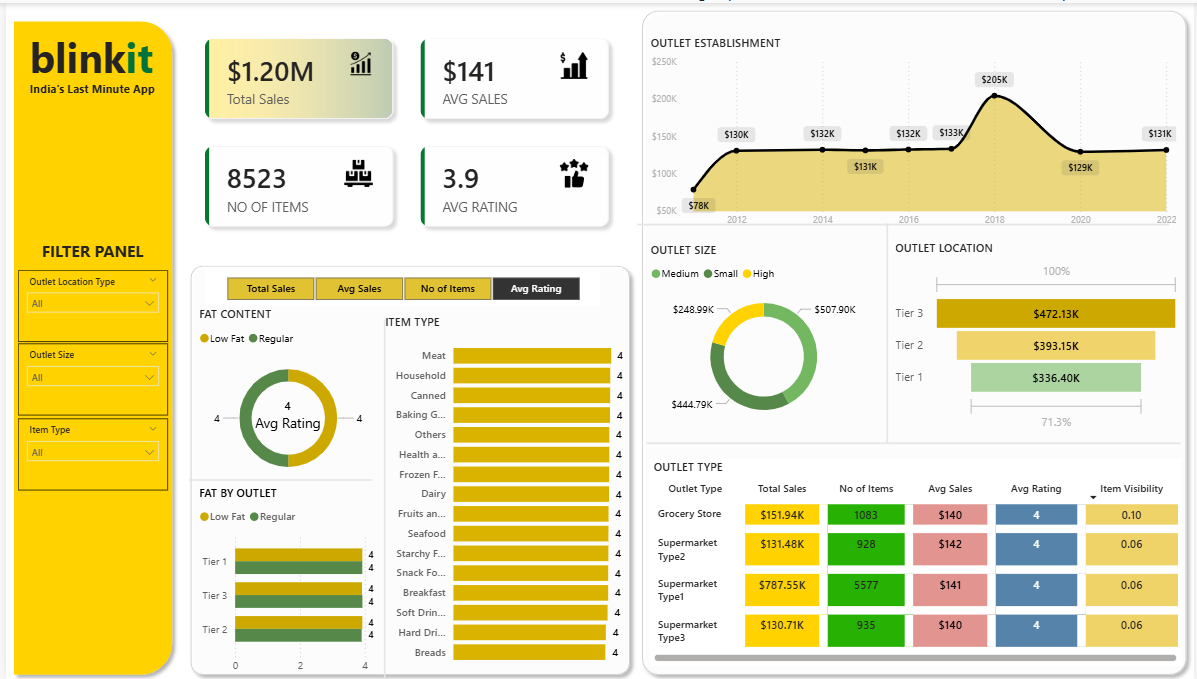

What the dashboard file says about the page in this screenshot:
{"tool":"powerbi","page":{"name":"Page 1","canvas":[1400,800],"ordinal":0},"visuals":[{"type":"shape","box":[0,12.4,205,788.2],"z":0},{"type":"textbox","box":[261.6,671.6,205,77.8],"z":1000},{"type":"textbox","box":[23,24.7,159.1,74.2],"z":2000},{"type":"textbox","box":[23,86.6,159.1,47.7],"z":3000},{"type":"cardVisual","fields":{"Data":["BlinkIT Grocery Data.Total Sales","BlinkIT Grocery Data.Avg Sales","BlinkIT Grocery Data.No of Items","BlinkIT Grocery Data.Avg Rating"]},"box":[205,12.4,535.5,281],"z":4000},{"type":"shape","box":[208.5,300.4,535.5,500.2],"z":5000},{"type":"donutChart","title":"FAT CONTENT","fields":{"Y":["BlinkIT Grocery Data.Avg Rating"],"Category":["BlinkIT Grocery Data.Item Fat Content"]},"box":[222.7,357,219.2,217.4],"z":6000},{"type":"slicer","fields":{"Values":["Metrics.Metrics"]},"box":[235.1,316.4,464.8,40.6],"z":7000},{"type":"cardVisual","fields":{"Data":["BlinkIT Grocery Data.Avg Rating"]},"box":[254.5,440.1,155.5,90.1],"z":8000},{"type":"clusteredBarChart","title":"FAT BY OUTLET ","fields":{"Y":["BlinkIT Grocery Data.Avg Rating"],"Category":["BlinkIT Grocery Data.Outlet Location Type"],"Series":["BlinkIT Grocery Data.Item Fat Content"]},"box":[222.7,567.3,219.2,231.5],"z":9000},{"type":"shape","box":[215.6,556.7,215.6,10.6],"z":10000},{"type":"shape","box":[441.8,372.9,8.8,427.7],"z":11000},{"type":"barChart","title":"ITEM TYPE","fields":{"Y":["BlinkIT Grocery Data.Avg Rating"],"Category":["BlinkIT Grocery Data.Item Type"]},"box":[441.8,365.8,289.8,422.4],"z":12000},{"type":"shape","box":[740.5,0,659.2,800.6],"z":13000},{"type":"lineChart","title":"OUTLET ESTABLISHMENT","fields":{"Y":["BlinkIT Grocery Data.Total Sales"],"Category":["BlinkIT Grocery Data.Outlet Establishment Year"]},"box":[754.7,37.1,629.2,235.1],"z":14000},{"type":"shape","box":[743.6,241,626.6,41.3],"z":15000},{"type":"shape","box":[1033.9,259.8,8.8,258],"z":17000},{"type":"funnel","title":"OUTLET LOCATION","fields":{"Category":["BlinkIT Grocery Data.Outlet Location Type"],"Y":["BlinkIT Grocery Data.Total Sales"]},"box":[1042.7,279.2,344.6,229.8],"z":18000},{"type":"shape","box":[754.7,498.4,629.2,40.6],"z":19000},{"type":"pivotTable","title":"OUTLET TYPE","fields":{"Rows":["BlinkIT Grocery Data.Outlet Type"],"Values":["BlinkIT Grocery Data.Total Sales","BlinkIT Grocery Data.No of Items","BlinkIT Grocery Data.Avg Sales","BlinkIT Grocery Data.Avg Rating","Avg(BlinkIT Grocery Data.Item Visibility)"]},"box":[758.2,537.3,627.4,243.9],"z":20000},{"type":"slicer","fields":{"Values":["BlinkIT Grocery Data.Outlet Location Type"]},"box":[14.1,314.6,176.7,84.8],"z":21000},{"type":"slicer","fields":{"Values":["BlinkIT Grocery Data.Outlet Size"]},"box":[14.1,401.2,176.7,84.8],"z":22000},{"type":"slicer","fields":{"Values":["BlinkIT Grocery Data.Item Type"]},"box":[14.1,489.6,176.7,84.8],"z":23000},{"type":"donutChart","title":"OUTLET SIZE","fields":{"Y":["BlinkIT Grocery Data.Total Sales"],"Category":["BlinkIT Grocery Data.Outlet Size"]},"box":[754.7,281,275.7,224.5],"z":24000},{"type":"textbox","box":[37.1,273.9,130.8,38.9],"z":24001}]}

Visuals, with their boxes in screenshot pixels (x1, y1, x2, y2), scaled from the page's 1400x800 canvas onto the 1197x679 screenshot:
shape: bbox=[0, 11, 175, 678]
textbox: bbox=[224, 570, 399, 636]
textbox: bbox=[20, 21, 156, 84]
textbox: bbox=[20, 74, 156, 114]
cardVisual - BlinkIT Grocery Data.Total Sales x BlinkIT Grocery Data.Avg Sales: bbox=[175, 11, 633, 249]
shape: bbox=[178, 255, 636, 678]
"FAT CONTENT" donutChart: bbox=[190, 303, 378, 488]
slicer - Metrics.Metrics: bbox=[201, 269, 598, 303]
cardVisual - BlinkIT Grocery Data.Avg Rating: bbox=[218, 374, 351, 450]
"FAT BY OUTLET " clusteredBarChart: bbox=[190, 481, 378, 678]
shape: bbox=[184, 472, 369, 481]
shape: bbox=[378, 316, 385, 678]
"ITEM TYPE" barChart: bbox=[378, 310, 626, 669]
shape: bbox=[633, 0, 1196, 678]
"OUTLET ESTABLISHMENT" lineChart: bbox=[645, 31, 1183, 231]
shape: bbox=[636, 205, 1172, 240]
shape: bbox=[884, 221, 892, 439]
"OUTLET LOCATION" funnel: bbox=[892, 237, 1186, 432]
shape: bbox=[645, 423, 1183, 457]
"OUTLET TYPE" pivotTable: bbox=[648, 456, 1185, 663]
slicer - BlinkIT Grocery Data.Outlet Location Type: bbox=[12, 267, 163, 339]
slicer - BlinkIT Grocery Data.Outlet Size: bbox=[12, 341, 163, 412]
slicer - BlinkIT Grocery Data.Item Type: bbox=[12, 416, 163, 488]
"OUTLET SIZE" donutChart: bbox=[645, 238, 881, 429]
textbox: bbox=[32, 232, 144, 265]
